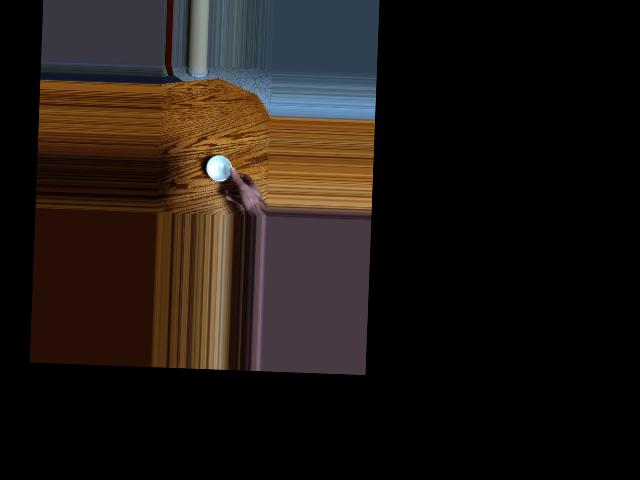cotage: (203, 151, 237, 185)
